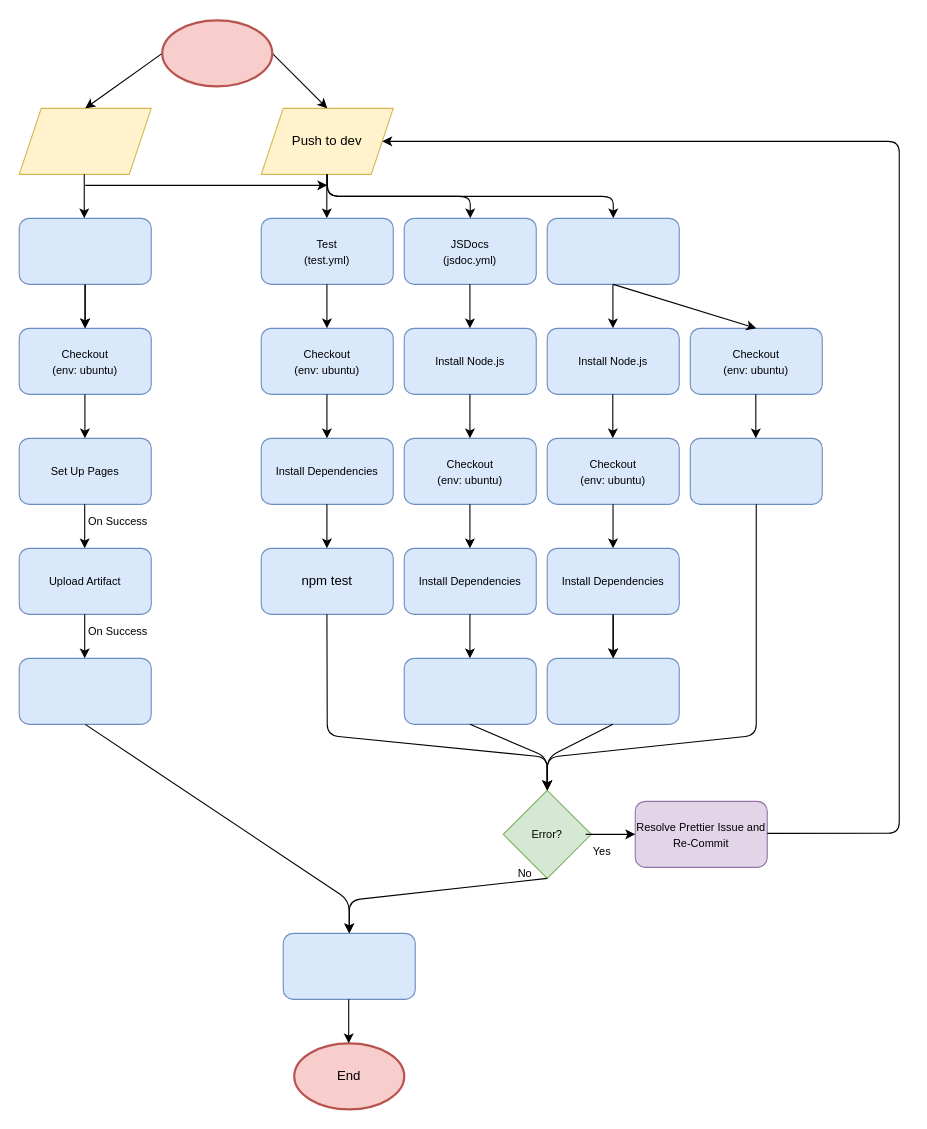
Image size: 927x1129. Some labels were removed from this diagram. Here are the shapes that lost their labels. From the top down, the box of each, then its label:
(161, 19, 273, 87): Start
(18, 107, 151, 174): Push to main
(18, 217, 151, 284): Deploy (deploy_to_gh_pages.yml)
(546, 217, 679, 284): Lint (linter.yml)
(689, 437, 822, 504): Run Prettier
(18, 657, 151, 724): Deploy to Github Pages
(403, 657, 536, 724): npm run jsdoc
(546, 657, 679, 724): npm run lint
(282, 932, 415, 999): Checks passed and Deployed
